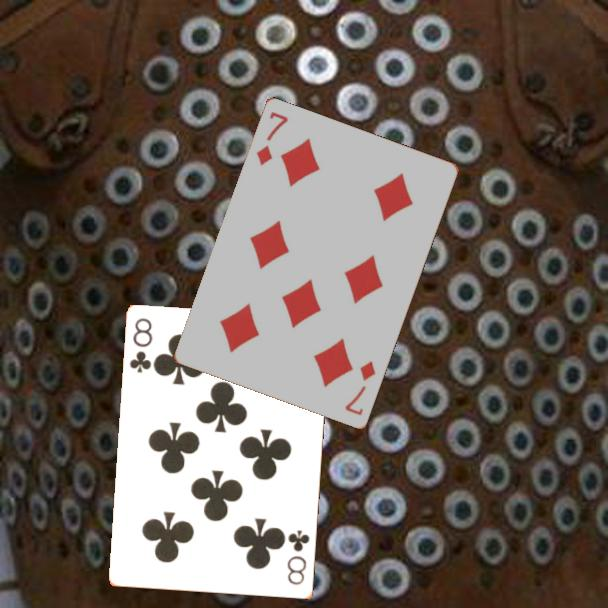c08: (126, 315, 156, 376), (284, 527, 312, 588)
d07: (253, 109, 291, 169), (342, 358, 379, 419)
